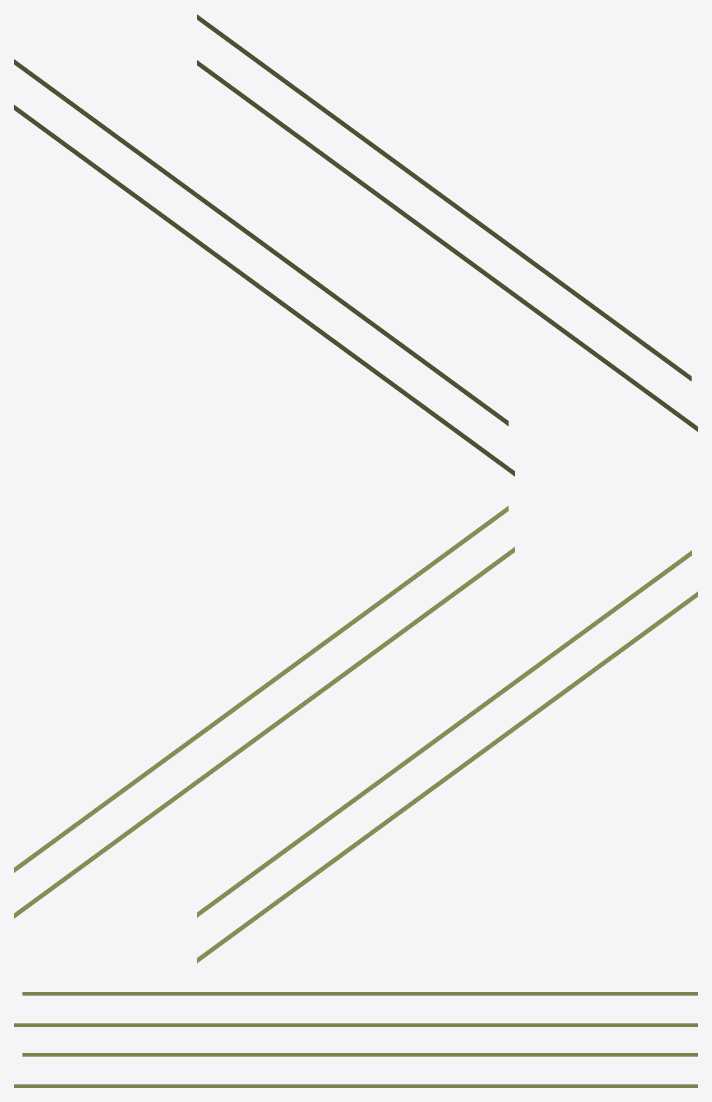
File: 101-stripes.dae
3 views of the same model, one above another, from view 1: azimuth 30°, elevation 25°; view 2: azimuth 150°, elevation 25°; view 3: azimuth 270°, elevation 25° (orthographic). The views are drawn at different scales.
Parts seen in each view (by area): view 1: Plane_001, Plane_002, Plane_003, Plane_004; view 2: Plane_002, Plane_001, Plane_004, Plane_003; view 3: Plane_001, Plane_002, Plane_004, Plane_003.
Part boxes in pixels (x1,y1,x2,y2): Plane_001: (197, 60, 697, 431); Plane_002: (14, 105, 514, 476); Plane_003: (14, 59, 508, 425); Plane_004: (197, 14, 691, 381); Plane_002: (197, 591, 697, 963); Plane_001: (14, 547, 514, 918); Plane_004: (14, 506, 508, 872); Plane_003: (197, 550, 691, 917); Plane_001: (14, 1084, 697, 1087); Plane_002: (14, 1023, 697, 1026); Plane_004: (22, 1053, 697, 1056); Plane_003: (22, 992, 697, 995).
Size of the model in its own units: 2.01 by 9.5 by 0.5361.
